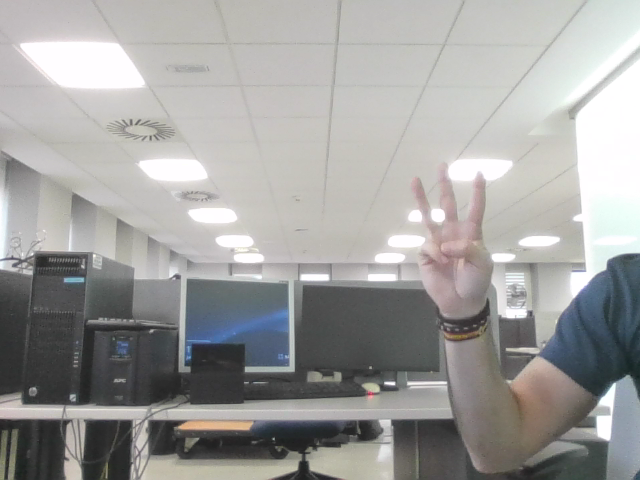3Dedos: (419, 174, 481, 282)
